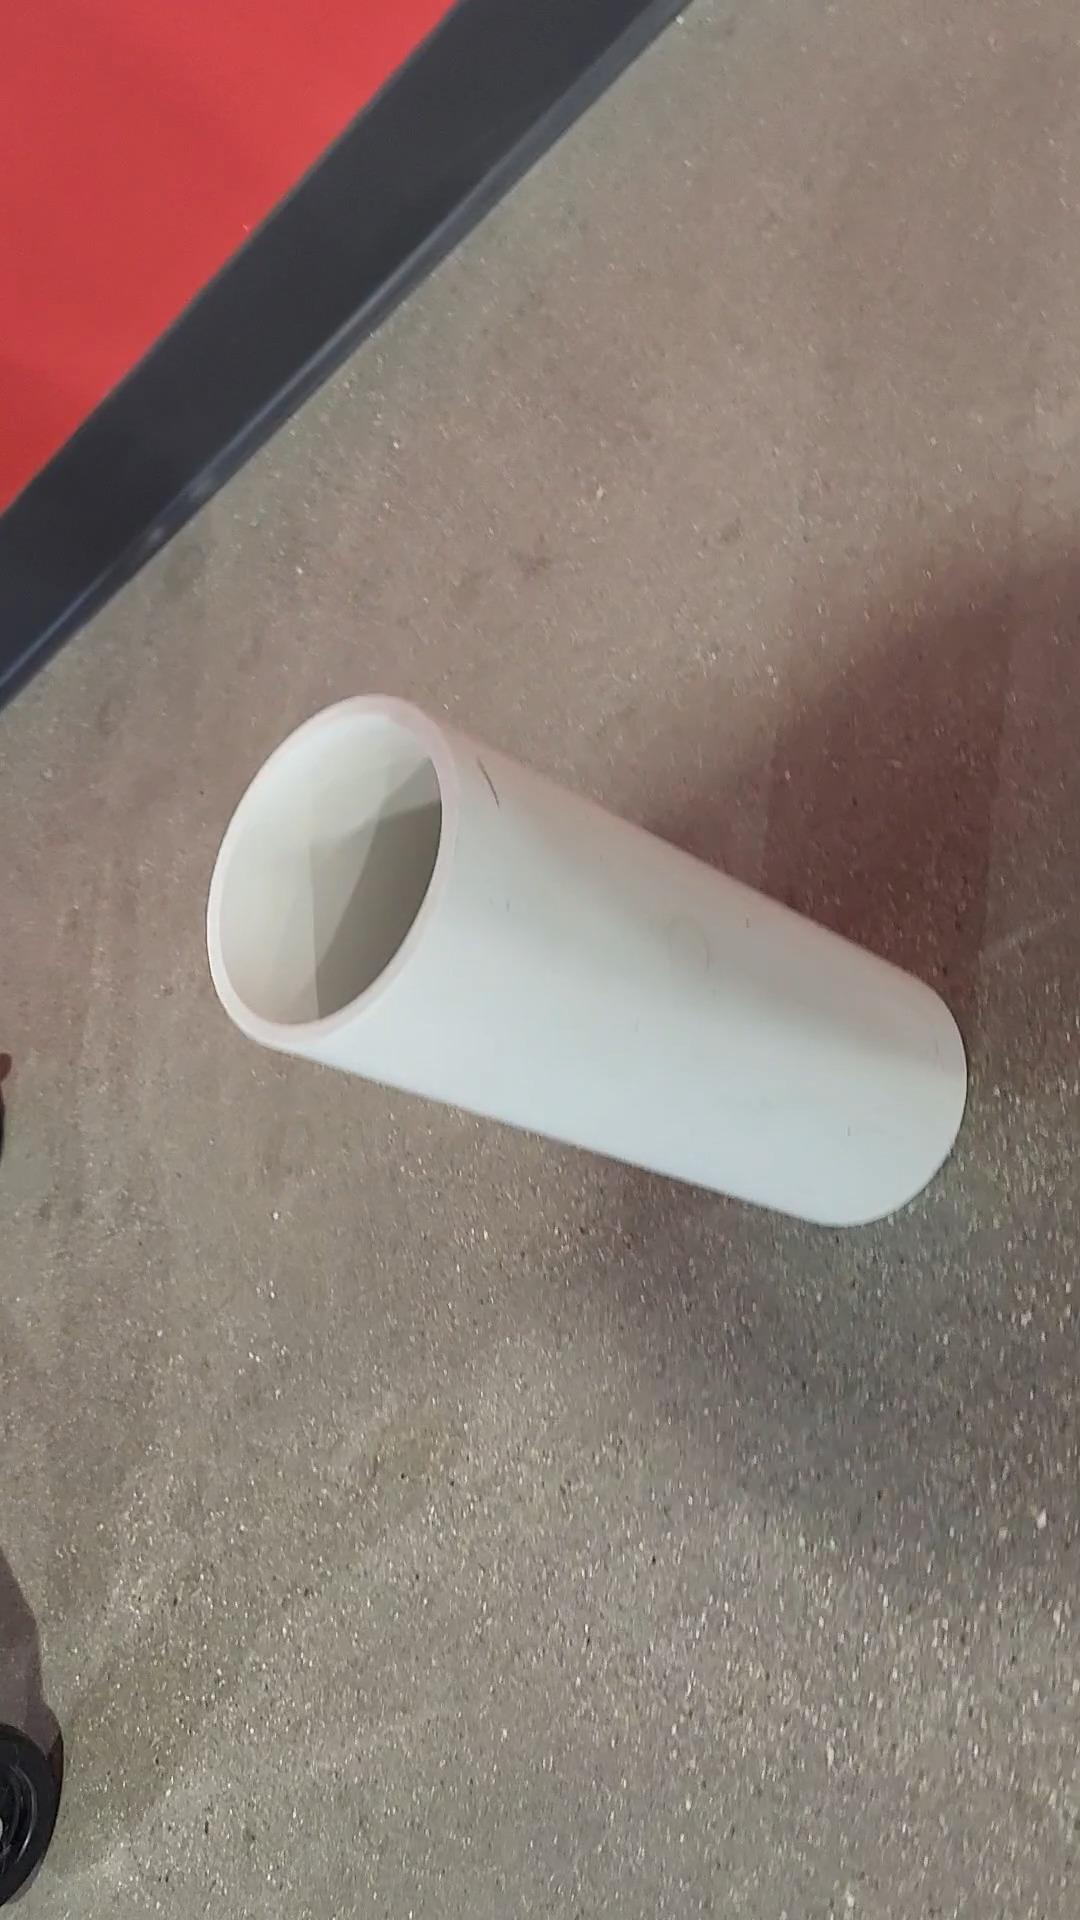coral: (200, 697, 970, 1224)
